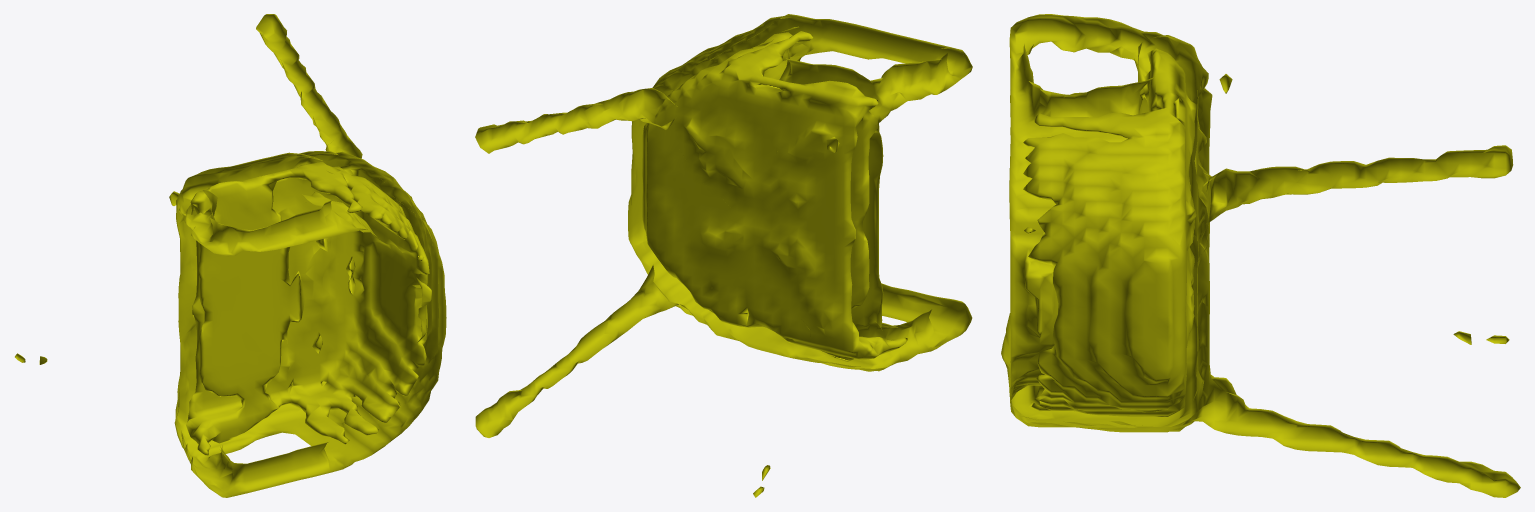
3 renders of one model, left to right at view 1: azimuth 30°, elevation 25°; view 2: azimuth 150°, elevation 25°; view 3: azimuth 270°, elevation 25°, orthographic. The views are drawn at different scales.
Visible parts, largest first — view 1: world; view 2: world; view 3: world.
Part boxes in pixels (left/top/right/bottom): world: left=15, top=14, right=446, bottom=497; world: left=475, top=14, right=972, bottom=497; world: left=1001, top=14, right=1520, bottom=497.
Size of the model in its own units: 32.15 by 33.4 by 44.63.
